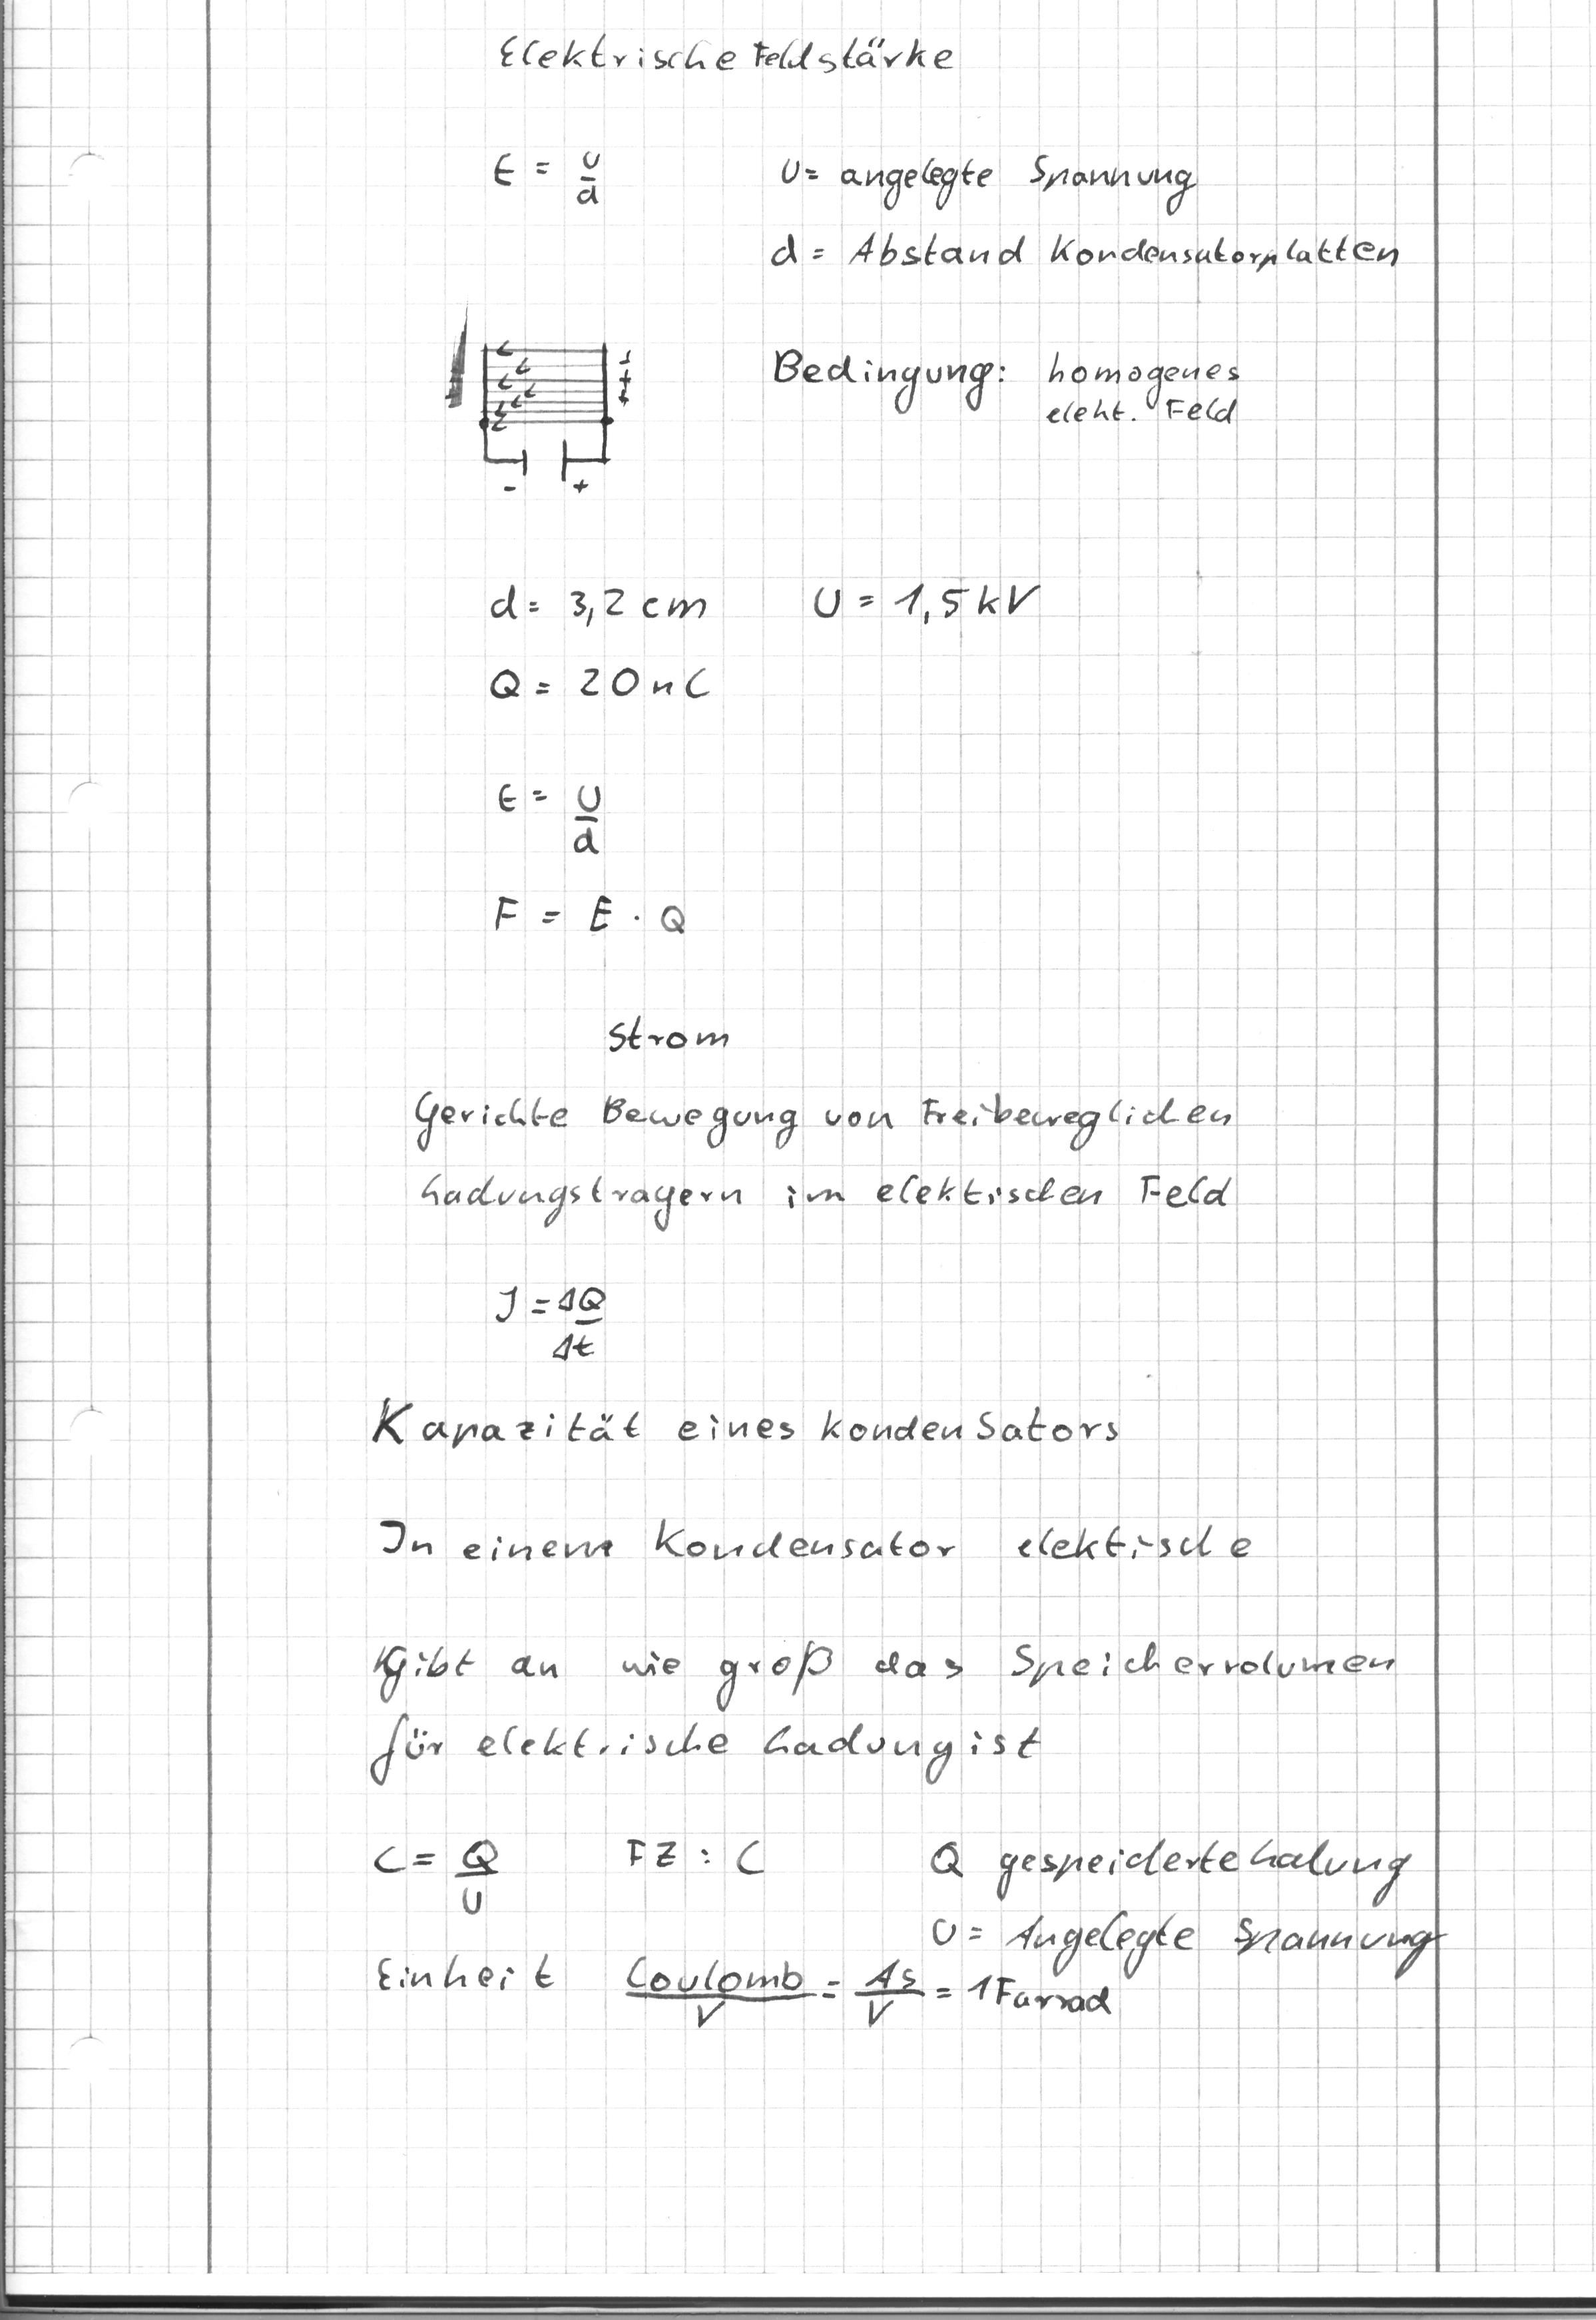word: (358, 1630, 1405, 1795), (401, 1078, 1261, 1248), (927, 1835, 1452, 2028), (760, 148, 1414, 286), (371, 1498, 1264, 1590), (362, 1378, 1139, 1473), (380, 1940, 938, 2070), (357, 1813, 800, 1931), (767, 338, 1255, 443), (469, 566, 753, 729), (484, 10, 975, 100), (471, 771, 700, 946), (472, 1261, 660, 1385), (800, 556, 1054, 643), (473, 135, 640, 229), (589, 992, 754, 1083)
